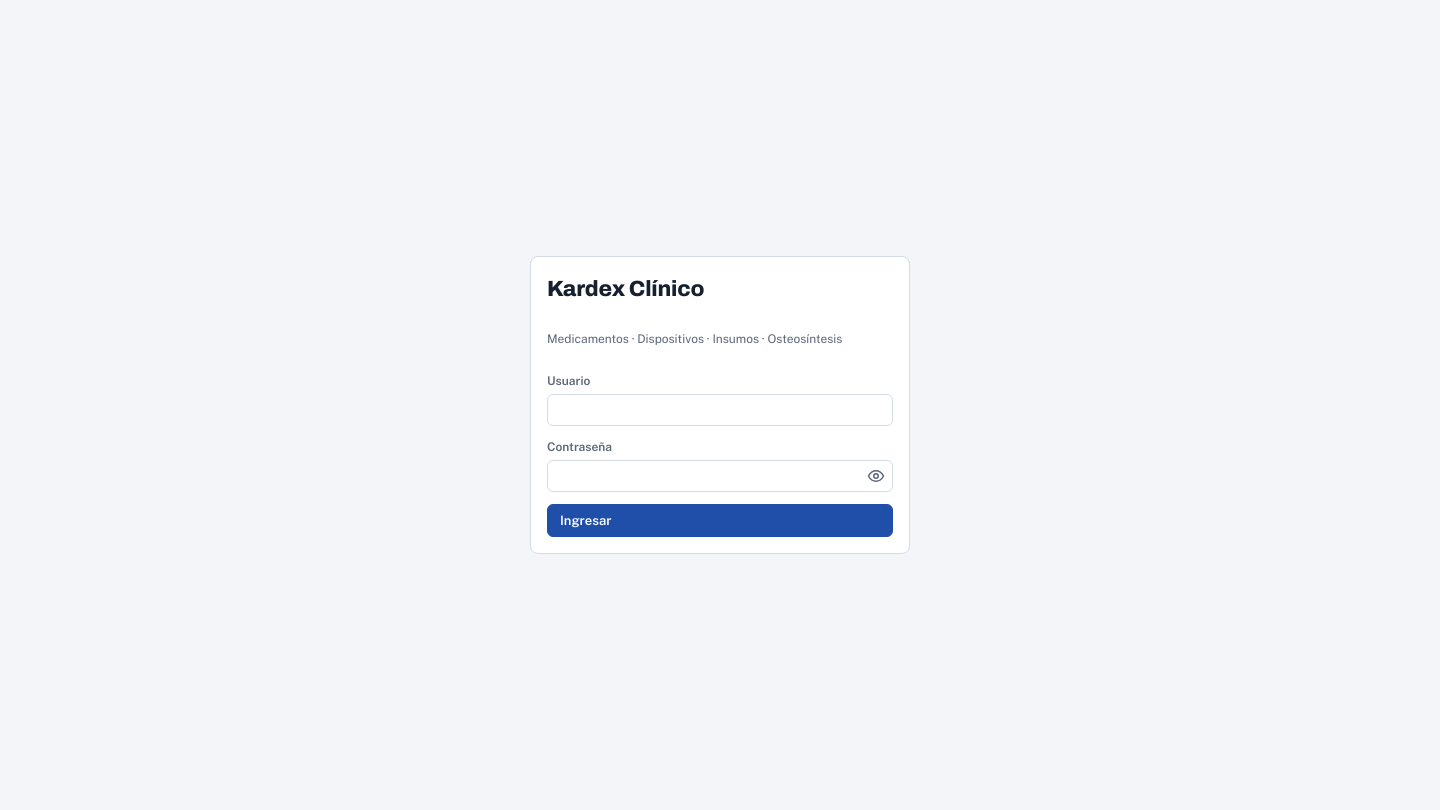
Test: login › ingresa y navega a la primera pantalla permitida
Type "ana" into the field labelled "Usuario" at (720,410), box left=547, top=394, right=893, bottom=426
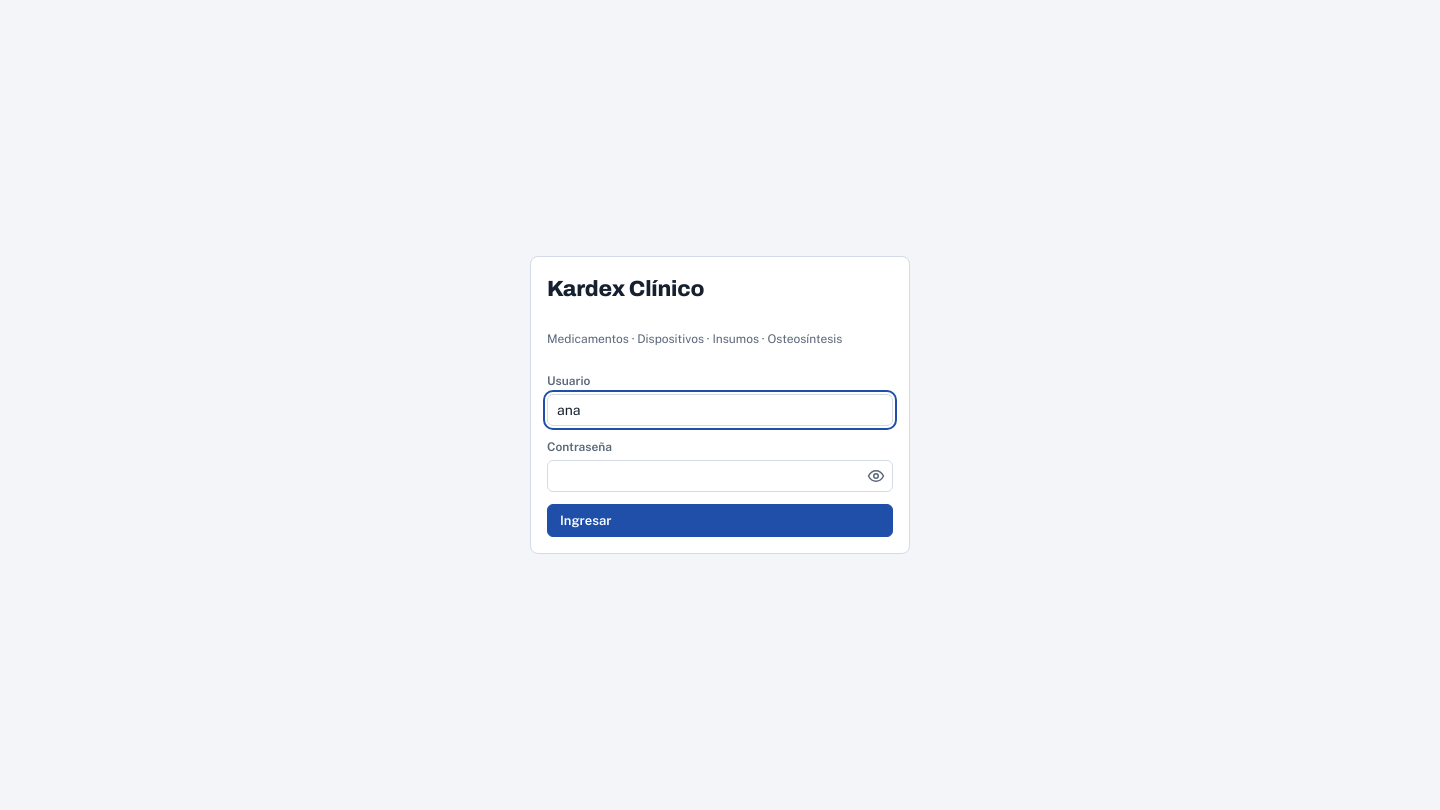
Type "Clave1234" into the password field labelled "Contraseña" at (720,476), box left=547, top=460, right=893, bottom=492
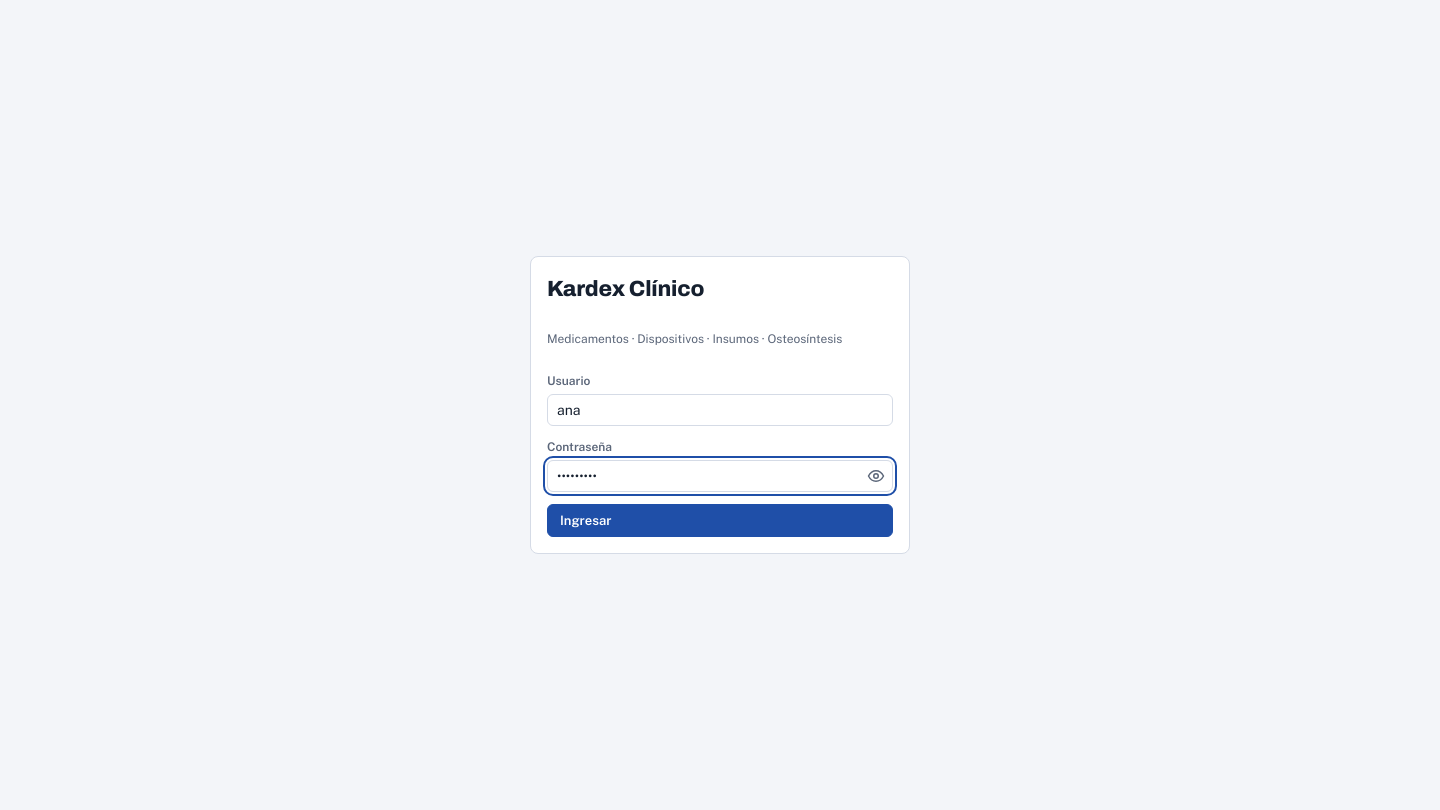
Click the button "Ingresar" at (586,520), box left=547, top=504, right=893, bottom=537
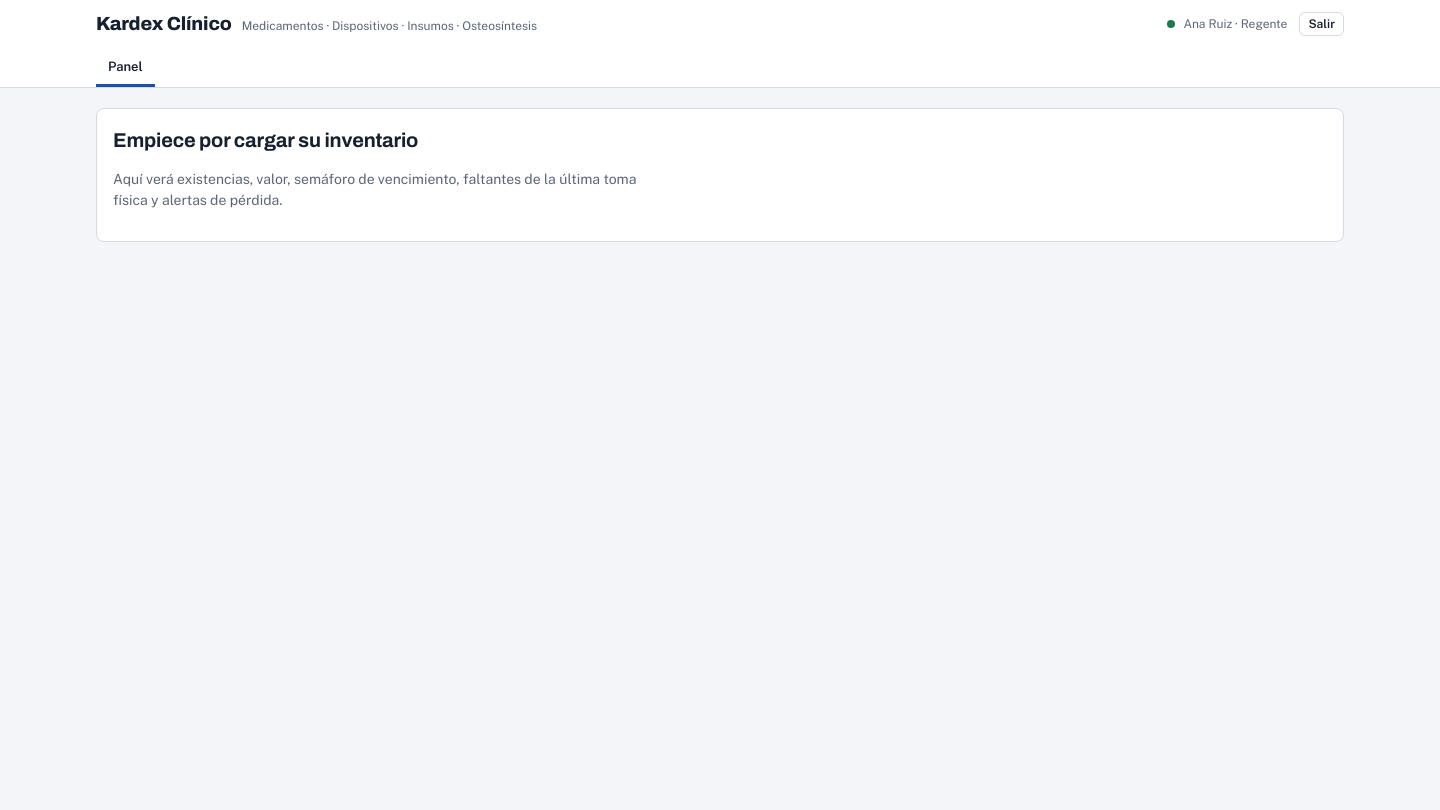
expect the heading "Empiece por cargar su inventario" is shown: met, box left=113, top=128, right=418, bottom=150
